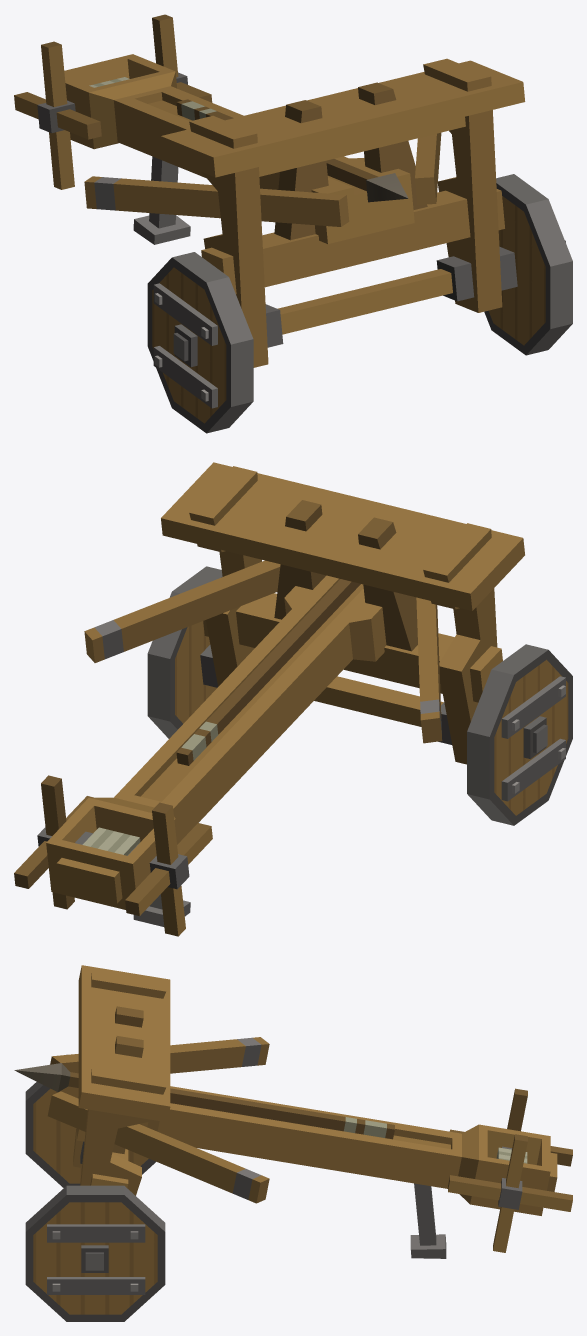
File: Ballista.gltf
3 views of the same model, one above another, from view 1: azimuth 30°, elevation 25°; view 2: azimuth 150°, elevation 25°; view 3: azimuth 270°, elevation 25° (orthographic). The views are drawn at different scales.
Visible parts, largest first — view 1: SF_Veh_Ballista_01, SF_Veh_Ballista_WheelR, SF_Veh_Ballista_WheelL, SF_Veh_Ballista_ArmR, SF_Veh_Ballista_Handle, SF_Veh_Ballista_Bolt, SF_Veh_Ballista_ArmL; view 2: SF_Veh_Ballista_01, SF_Veh_Ballista_WheelR, SF_Veh_Ballista_Handle, SF_Veh_Ballista_ArmL, SF_Veh_Ballista_WheelL, SF_Veh_Ballista_Bolt, SF_Veh_Ballista_ArmR; view 3: SF_Veh_Ballista_01, SF_Veh_Ballista_WheelL, SF_Veh_Ballista_ArmL, SF_Veh_Ballista_Handle, SF_Veh_Ballista_Bolt, SF_Veh_Ballista_WheelR, SF_Veh_Ballista_ArmR.
Part boxes in pixels (x1,y1,x2,y2): SF_Veh_Ballista_01: (64, 54, 525, 367); SF_Veh_Ballista_WheelR: (147, 252, 253, 433); SF_Veh_Ballista_WheelL: (484, 174, 572, 355); SF_Veh_Ballista_ArmR: (84, 176, 349, 226); SF_Veh_Ballista_Handle: (14, 14, 212, 189); SF_Veh_Ballista_Bolt: (176, 99, 408, 202); SF_Veh_Ballista_ArmL: (415, 132, 441, 204); SF_Veh_Ballista_01: (46, 462, 524, 926); SF_Veh_Ballista_WheelR: (467, 644, 572, 825); SF_Veh_Ballista_Handle: (14, 775, 212, 936); SF_Veh_Ballista_ArmL: (84, 560, 280, 662); SF_Veh_Ballista_WheelL: (147, 566, 222, 738); SF_Veh_Ballista_Bolt: (176, 579, 360, 765); SF_Veh_Ballista_ArmR: (416, 597, 442, 743); SF_Veh_Ballista_01: (73, 965, 557, 1258); SF_Veh_Ballista_WheelL: (25, 1185, 165, 1321); SF_Veh_Ballista_ArmL: (47, 1091, 269, 1203); SF_Veh_Ballista_Handle: (448, 1088, 572, 1252); SF_Veh_Ballista_Bolt: (14, 1063, 394, 1139); SF_Veh_Ballista_WheelR: (25, 1054, 155, 1187); SF_Veh_Ballista_ArmR: (50, 1037, 269, 1073).
Size of the model in its own units: 0.0361 by 0.0259 by 0.0572.
1 material, 1 textured.
